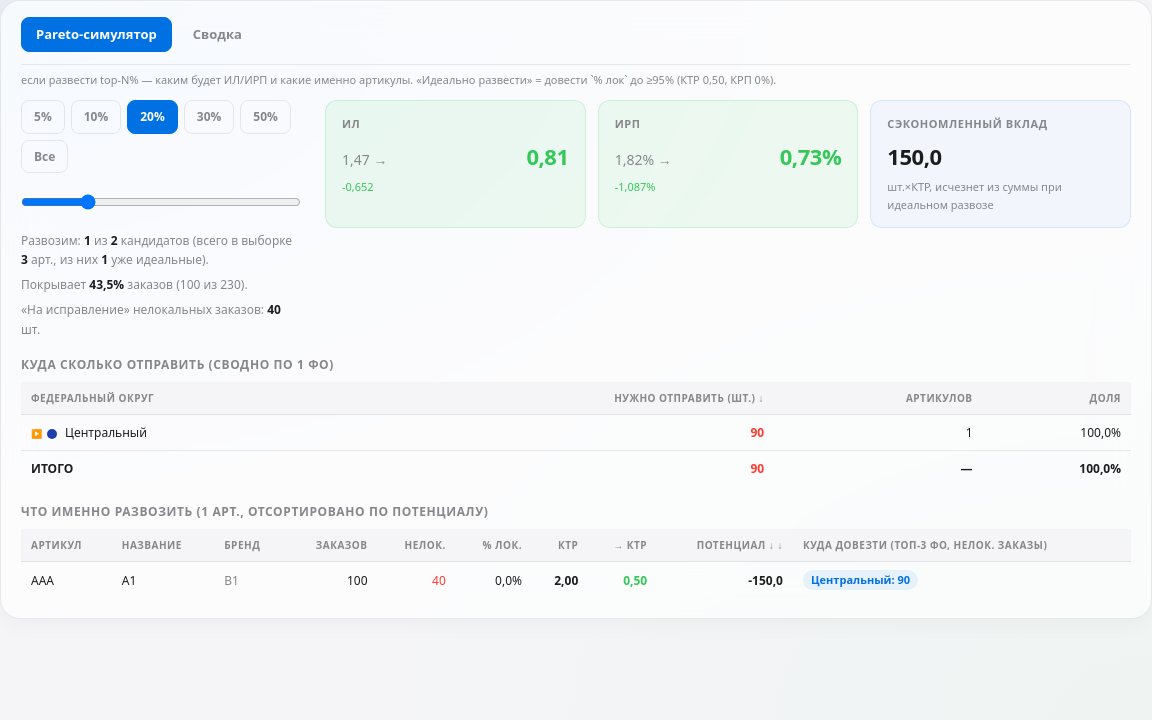
<LocalizationInsights /> › Сводка: toggle переключает группировку на категории
Click the tab "Сводка". click: [217, 34]
box: x1=178 y1=17 x2=257 y2=52
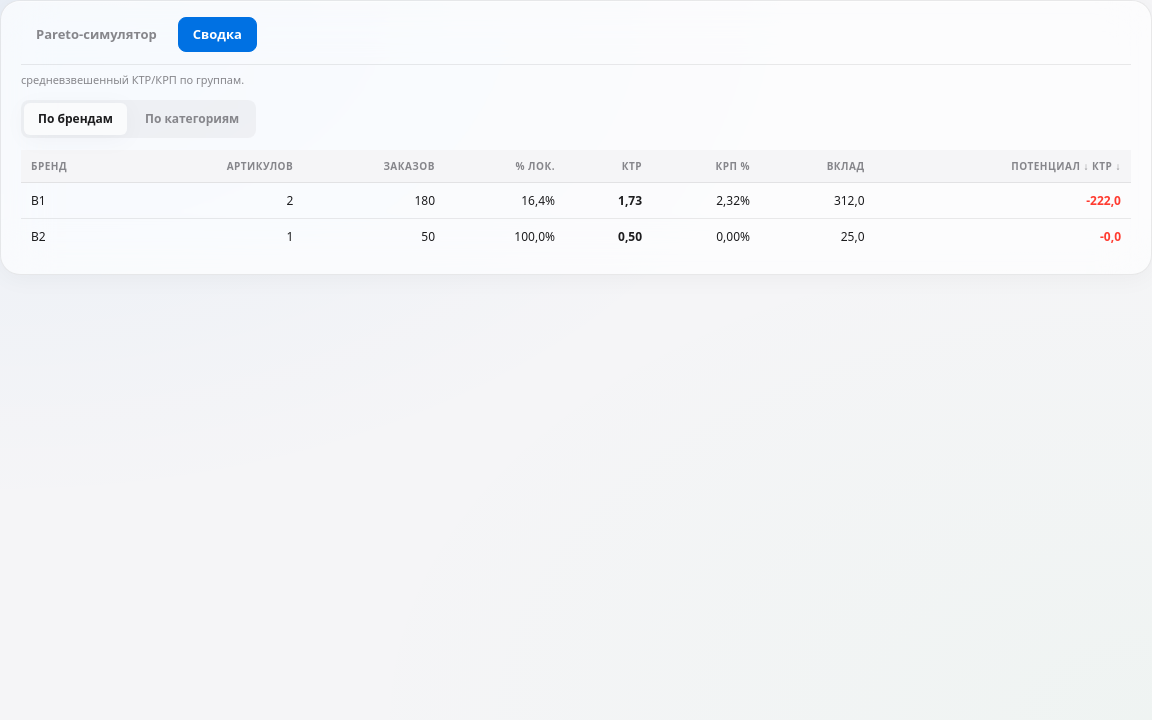
Click the tab "По категориям". click: [192, 119]
box: x1=131 y1=103 x2=253 y2=135
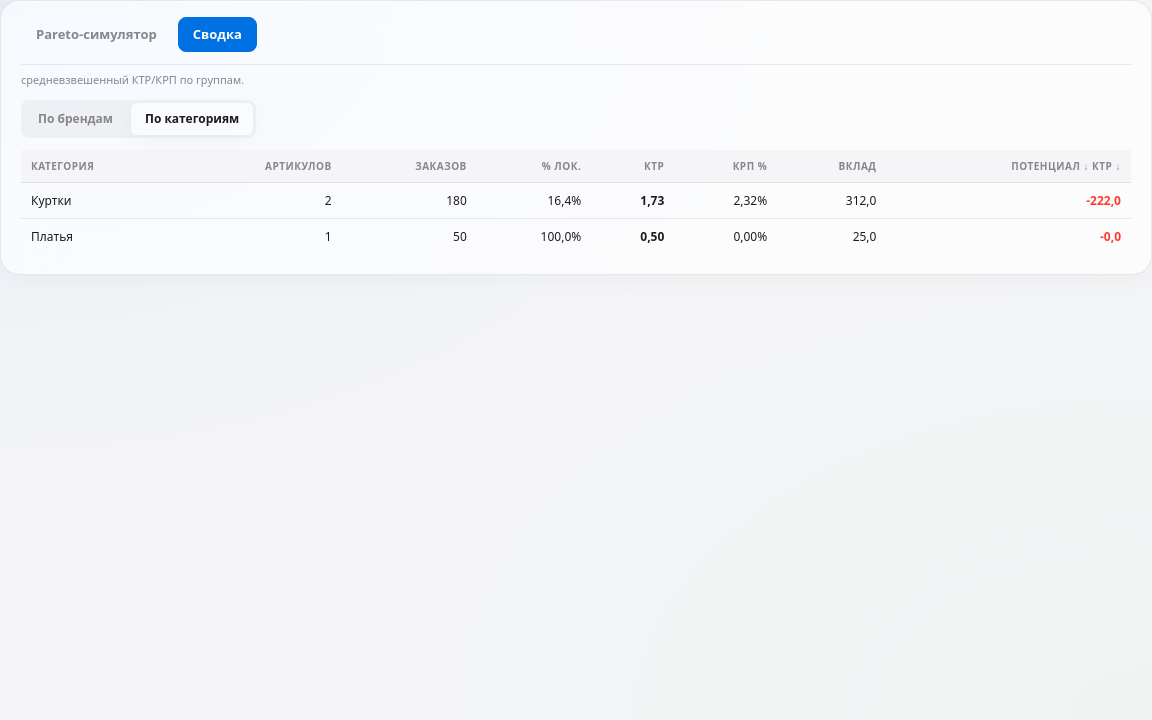
Result: the text "Куртки" is shown at x1=21 y1=183 x2=178 y2=219
Result: the text "Платья" is shown at x1=21 y1=219 x2=178 y2=254
